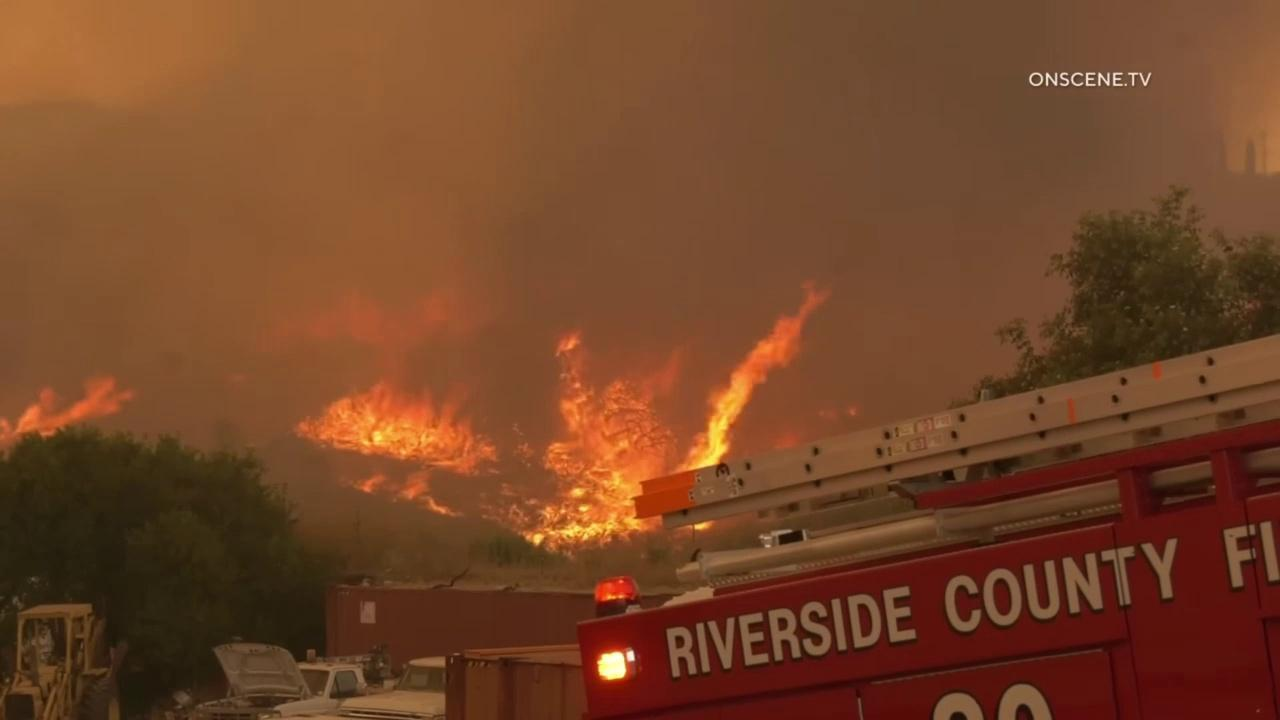fire: (293, 270, 836, 559), (0, 367, 141, 459)
smoke: (0, 0, 1280, 508)
